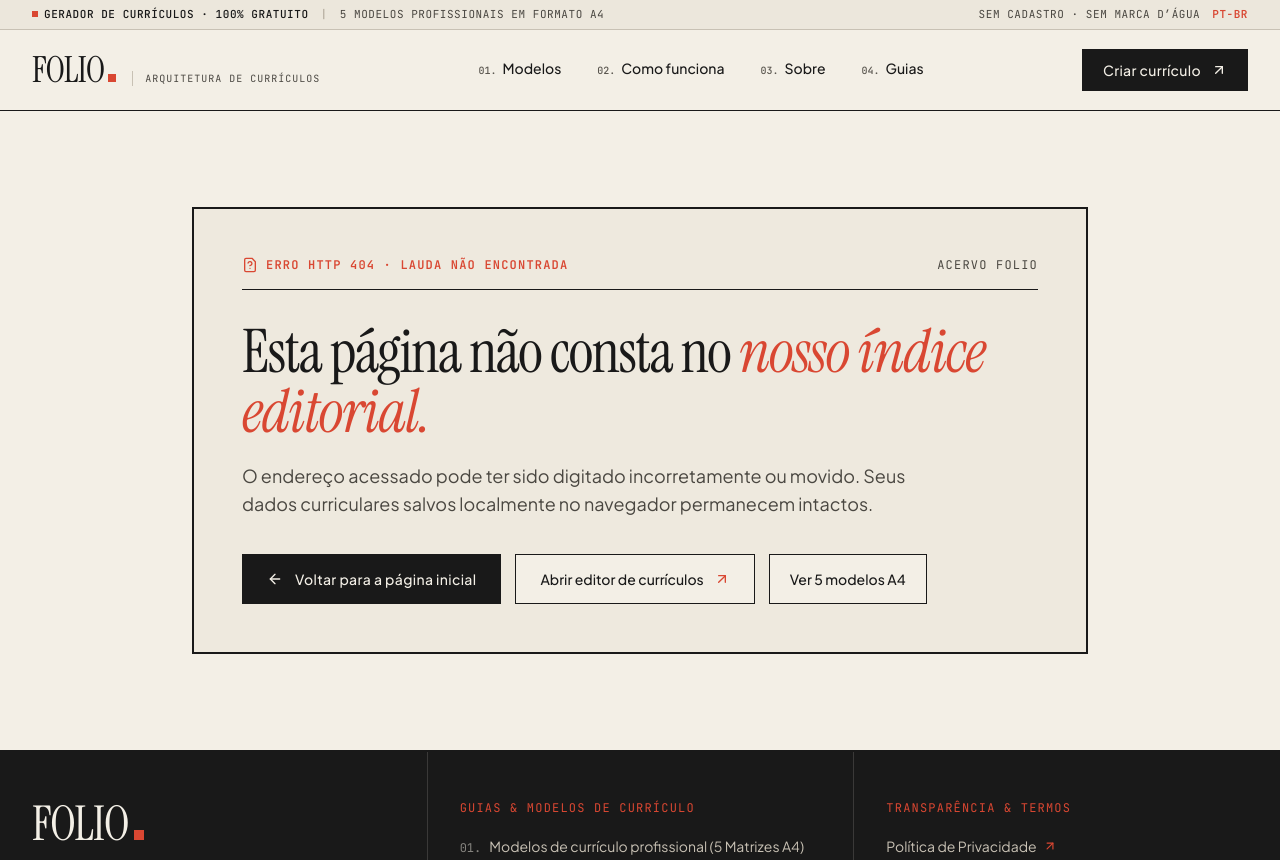
Scenario: FOLIO — Fases 05 e 06: SEO Técnico, Páginas Legais, Segurança e Fluxos de Lançamento › 6. Exibe a página 404 personalizada com noindex quando o usuário acessa uma rota inexistente e sanitiza photoUrl malicioso no LocalStorage
Expected: the heading "Esta página não consta no nosso índice editorial." is shown, [242,322,1038,442]
// Testa retorno à página inicial a partir da 404
Click the button "Voltar para a página inicial" at {"x": 372, "y": 578}, box [242,554,501,604]
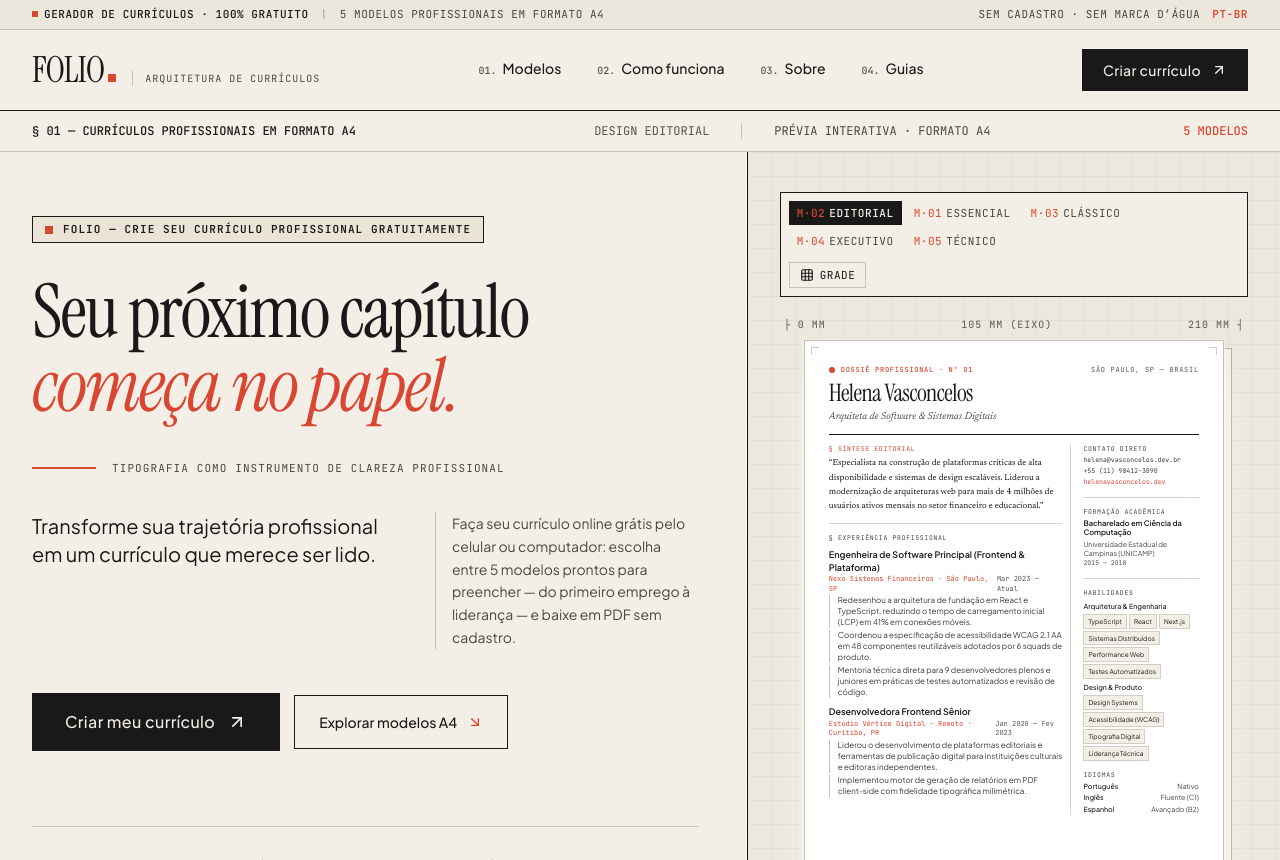
Result: the heading "Seu próximo capítulo começa no papel." is shown at [32,263,528,434]
